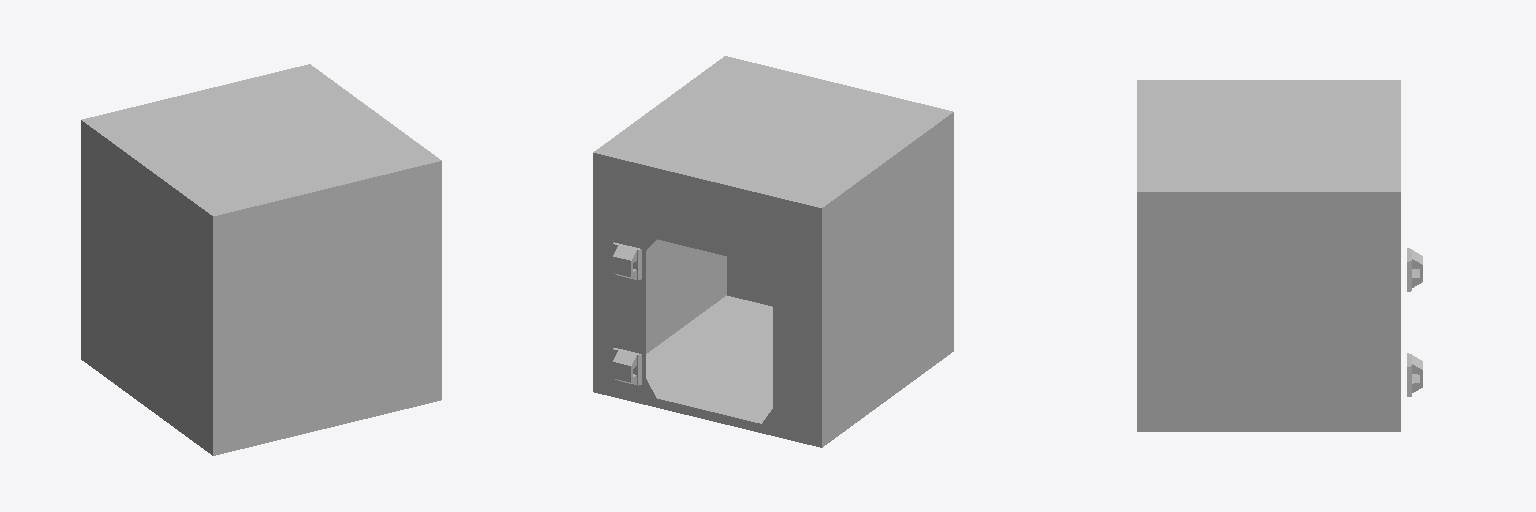
The model's file is vaultcube.obj.
3 views of the same model, side by side, from view 1: azimuth 30°, elevation 25°; view 2: azimuth 150°, elevation 25°; view 3: azimuth 270°, elevation 25° (orthographic).
Parts seen in each view (by area): view 1: pCube2; view 2: pCube2; view 3: pCube2.
Boxes of the visible parts, box(x1,y1,x2,y2) form: pCube2: box(81, 64, 441, 455); pCube2: box(593, 56, 953, 447); pCube2: box(1137, 80, 1422, 431).
Bounding box in the file's own units: 24 × 24 × 26.01.